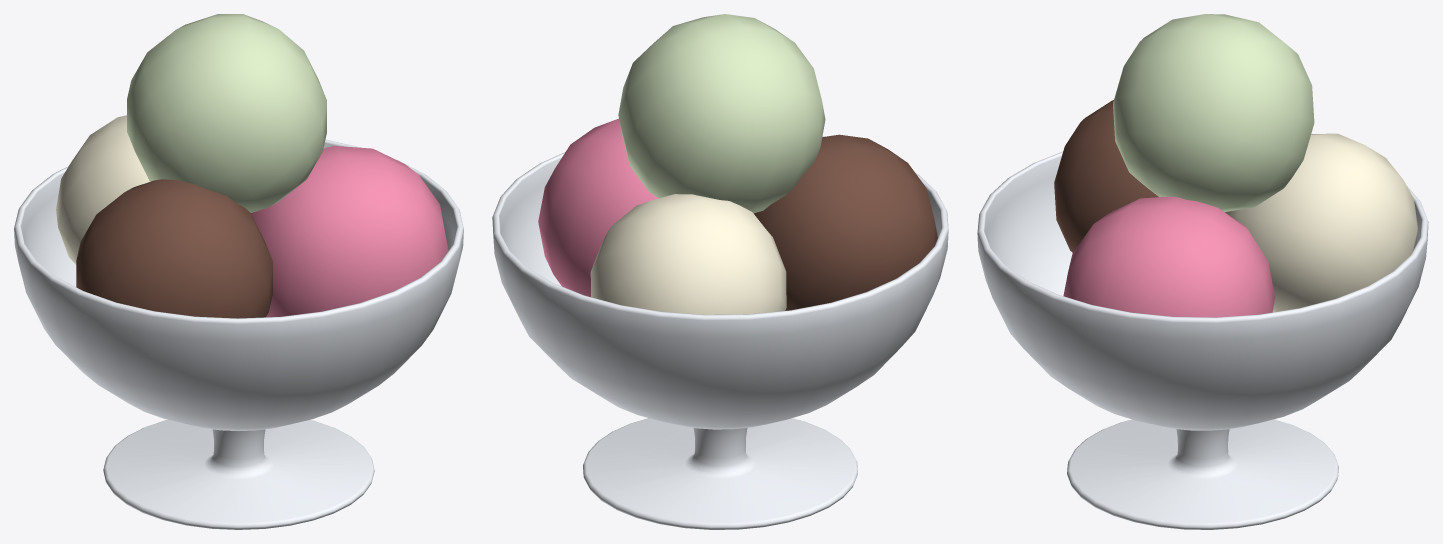
File: ice_cream.gltf
3 renders of one model, left to right at view 1: azimuth 30°, elevation 25°; view 2: azimuth 150°, elevation 25°; view 3: azimuth 270°, elevation 25°, orthographic.
Parts seen in each view (by area): view 1: Sphere.496; view 2: Sphere.496; view 3: Sphere.496.
Boxes of the visible parts, x1,y1,x2,y2 form: Sphere.496: [14, 14, 463, 529]; Sphere.496: [492, 14, 948, 529]; Sphere.496: [977, 14, 1428, 529].
Bounding box in the file's own units: 2 × 2.19 × 2.
2 materials, 1 textured.
